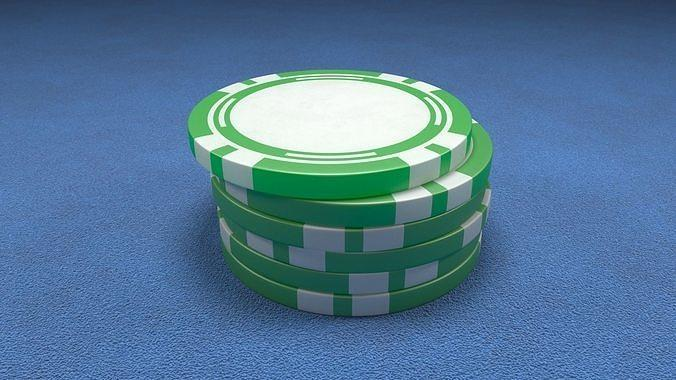chip-green: (190, 71, 492, 316), (187, 70, 475, 199), (219, 123, 492, 226), (223, 238, 481, 316), (213, 180, 486, 252), (213, 179, 345, 252)
